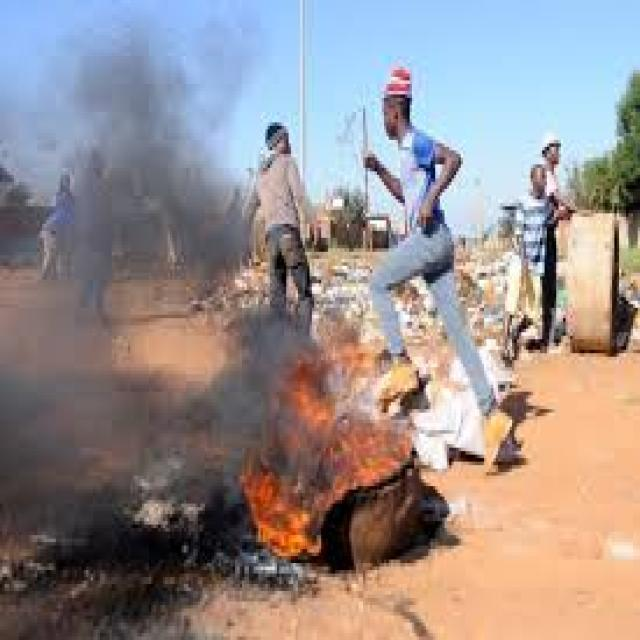Fire: (286, 356, 413, 531), (252, 462, 321, 562), (252, 346, 287, 503)
Smoke: (0, 39, 212, 564)
